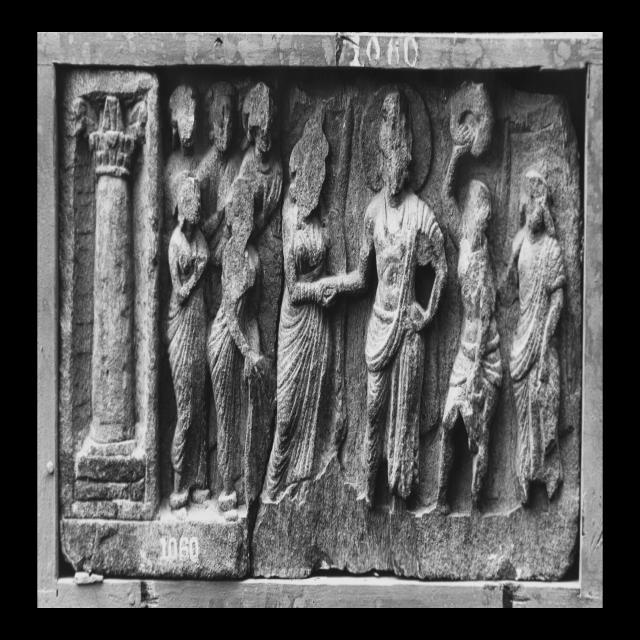buddha-sitting: (325, 84, 448, 509)
